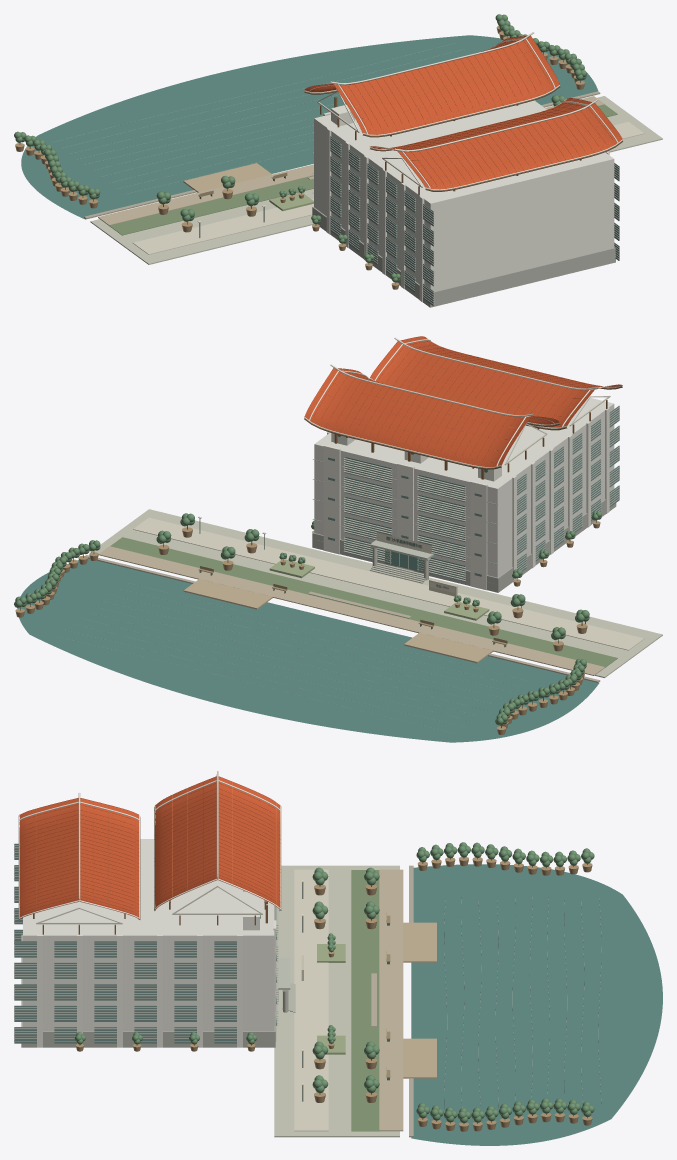
Rendered from 主三背面_图书馆外观.glb.
3 renders of one model, top to bottom at view 1: azimuth 30°, elevation 25°; view 2: azimuth 150°, elevation 25°; view 3: azimuth 270°, elevation 25°, orthographic. The views are drawn at different scales.
Visible parts, largest first — view 1: library_front_lake_water, library_five_floor_body, orange_curved_roof_tiles (×4), library_rear_approach, library_granite_base, library_walkway, lakeside_green_strip, shore_walk, library_side_vertical_pier (×3), waterfront_viewing_platform, swallowtail_ridge (×2), entry_planting_bed; view 2: library_front_lake_water, orange_curved_roof_tiles (×3), library_five_floor_body, library_rear_approach, library_walkway, shore_walk, lakeside_green_strip, rear_white_pier (×3), waterfront_viewing_platform (×2), library_granite_base; view 3: library_front_lake_water, orange_curved_roof_tiles (×4), library_five_floor_body, library_rear_approach, library_walkway, shore_walk, lakeside_green_strip, library_side_vertical_pier (×6), waterfront_viewing_platform (×2), library_granite_base.
Boxes of the visible parts, left/top/right/bottom form: library_front_lake_water: left=21, top=35, right=598, bottom=219; library_five_floor_body: left=314, top=100, right=614, bottom=291; orange_curved_roof_tiles (×4): left=304, top=36, right=622, bottom=189; library_rear_approach: left=90, top=96, right=662, bottom=264; library_granite_base: left=312, top=206, right=615, bottom=307; library_walkway: left=133, top=122, right=644, bottom=254; lakeside_green_strip: left=109, top=104, right=617, bottom=235; shore_walk: left=98, top=96, right=604, bottom=225; library_side_vertical_pier (×3): left=326, top=128, right=424, bottom=302; waterfront_viewing_platform: left=183, top=163, right=271, bottom=192; swallowtail_ridge (×2): left=334, top=34, right=595, bottom=151; entry_planting_bed: left=269, top=192, right=313, bottom=210; library_front_lake_water: left=17, top=558, right=599, bottom=742; orange_curved_roof_tiles (×3): left=305, top=336, right=621, bottom=466; library_five_floor_body: left=314, top=397, right=614, bottom=577; library_rear_approach: left=90, top=509, right=662, bottom=677; library_walkway: left=133, top=517, right=644, bottom=650; shore_walk: left=98, top=546, right=604, bottom=675; lakeside_green_strip: left=110, top=537, right=617, bottom=667; rear_white_pier (×3): left=323, top=445, right=487, bottom=590; waterfront_viewing_platform (×2): left=183, top=579, right=493, bottom=663; library_granite_base: left=312, top=499, right=616, bottom=592; library_front_lake_water: left=411, top=864, right=662, bottom=1145; orange_curved_roof_tiles (×4): left=19, top=776, right=280, bottom=918; library_five_floor_body: left=23, top=839, right=274, bottom=1031; library_rear_approach: left=274, top=865, right=399, bottom=1137; library_walkway: left=294, top=869, right=328, bottom=1131; shore_walk: left=379, top=869, right=403, bottom=1131; lakeside_green_strip: left=351, top=870, right=379, bottom=1131; library_side_vertical_pier (×6): left=37, top=935, right=242, bottom=1047; waterfront_viewing_platform (×2): left=403, top=922, right=436, bottom=1078; library_granite_base: left=21, top=934, right=275, bottom=1047.
Size of the model in its own units: 117 by 34.59 by 114.
51 materials, 2 textured.
